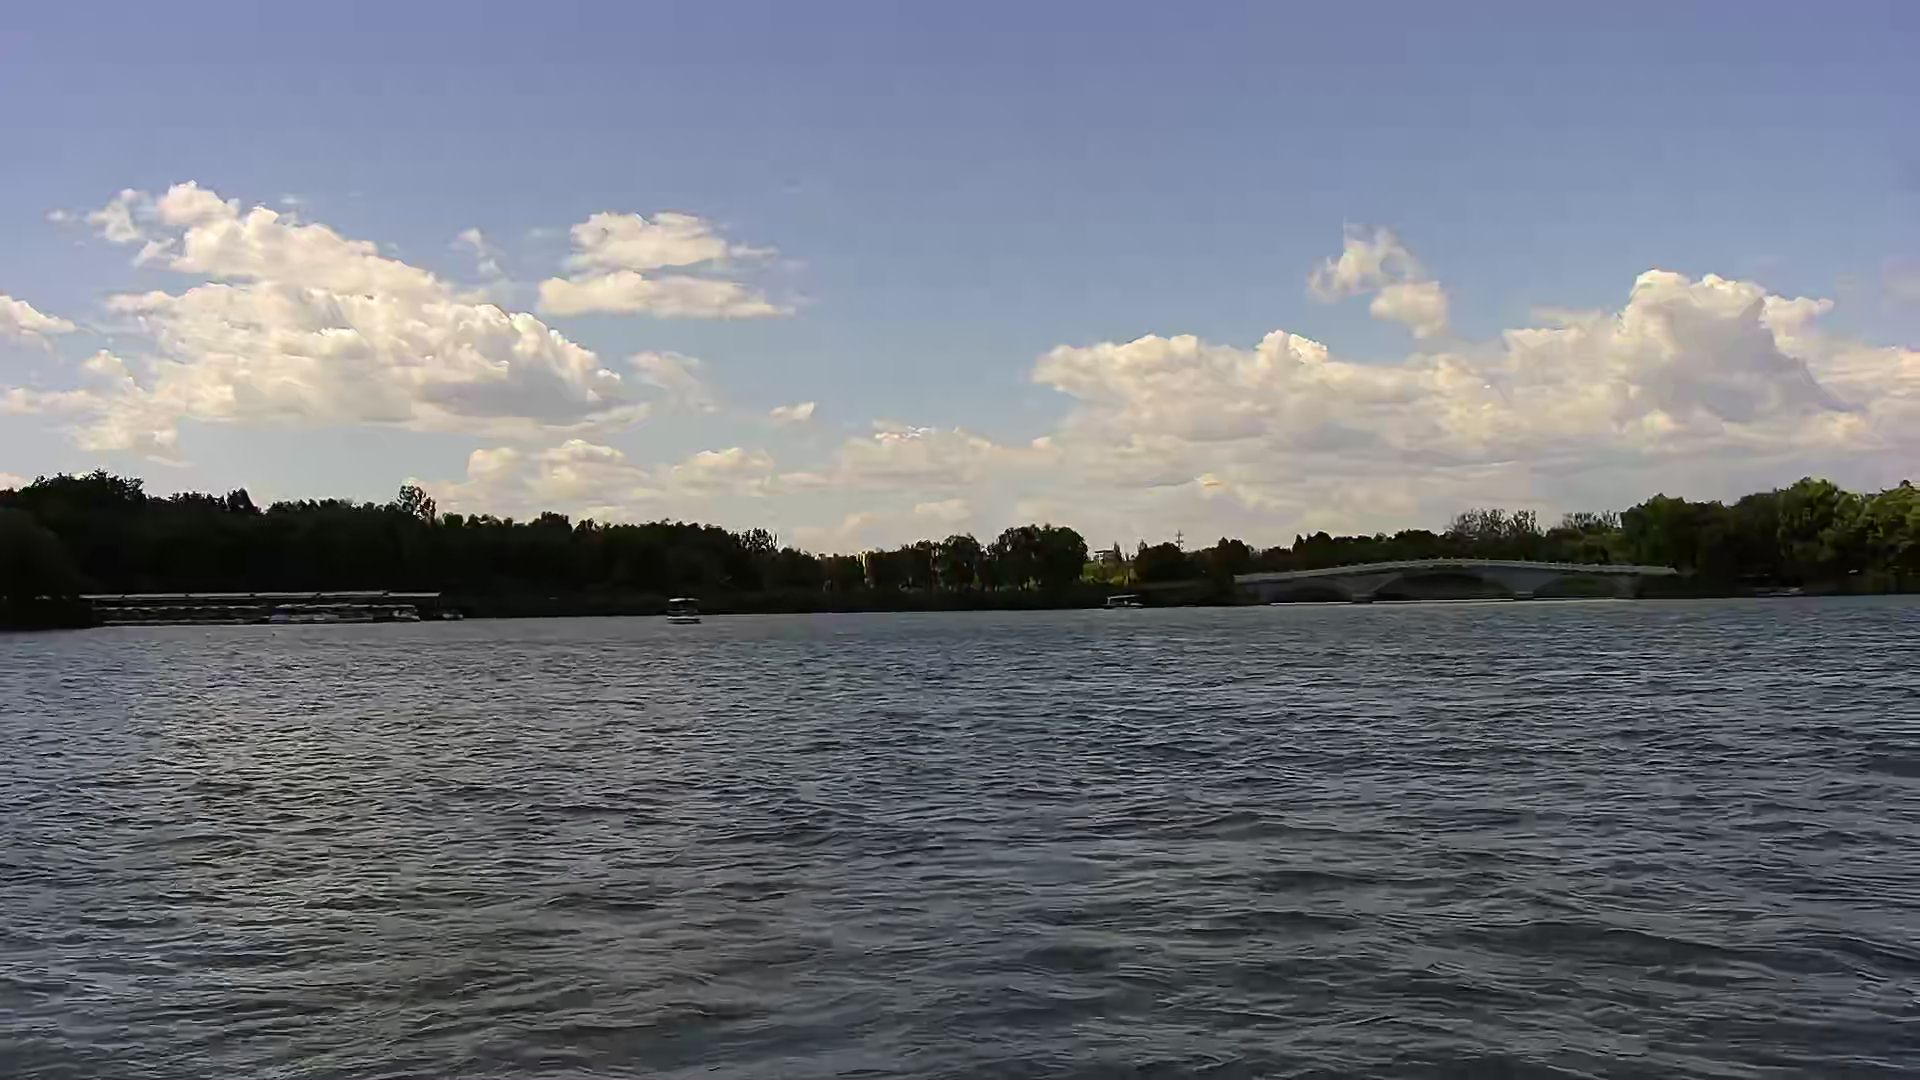boat: (663, 592, 705, 630), (1096, 585, 1149, 613)
bridge: (1232, 556, 1683, 604)
harbor: (69, 585, 444, 632)
